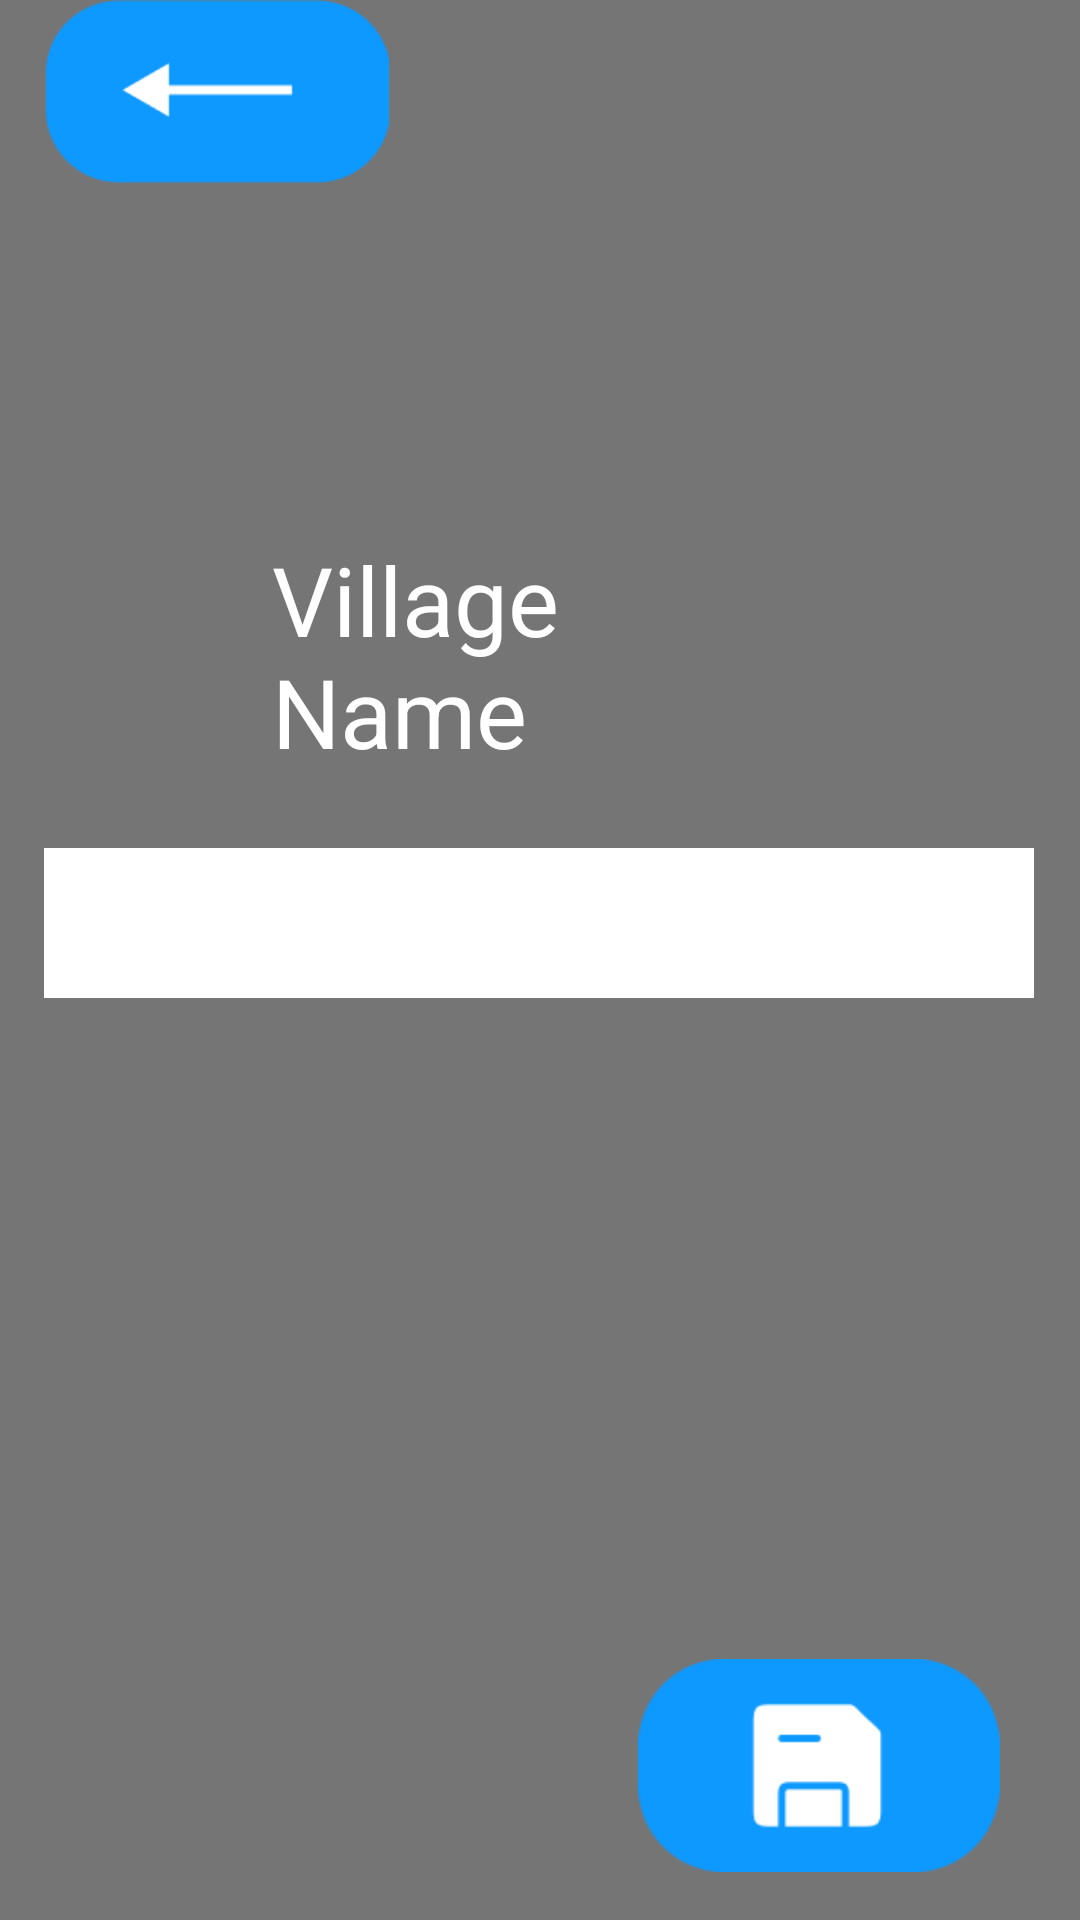

Named icons in this screenshot (1080*1920) and their centers, (x=x, y=y):
Back to previous page: (x=217, y=91)
